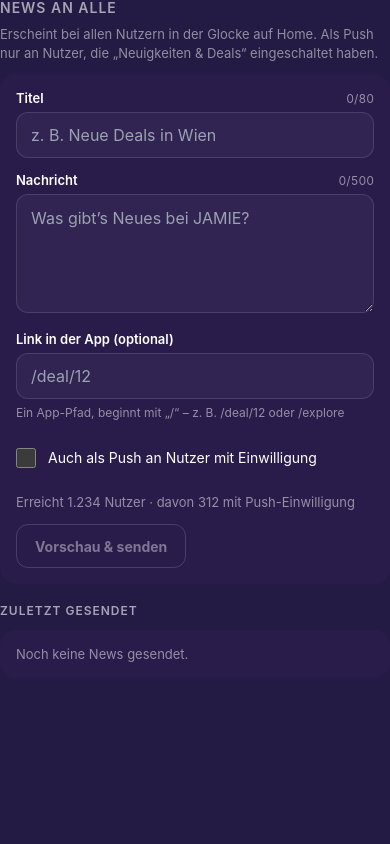
Scenario: AdminNewsSection › the server’s double-send refusal is worded, and the form keeps its text
The width and height of the screenshot is (390, 844).
In the field labelled "Titel": (195, 136) x1=16 y1=112 x2=374 y2=158, type "Neue Deals in Wien"
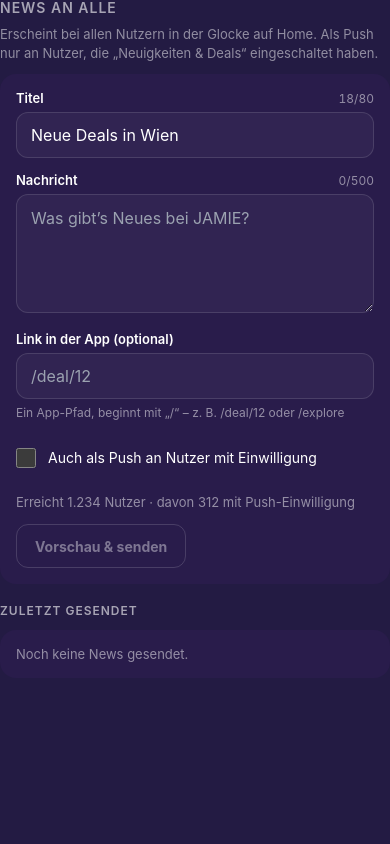
In the text box labelled "Nachricht": (195, 254) x1=16 y1=194 x2=374 y2=313, type "Drei neue Kooperationen — schau rein!"
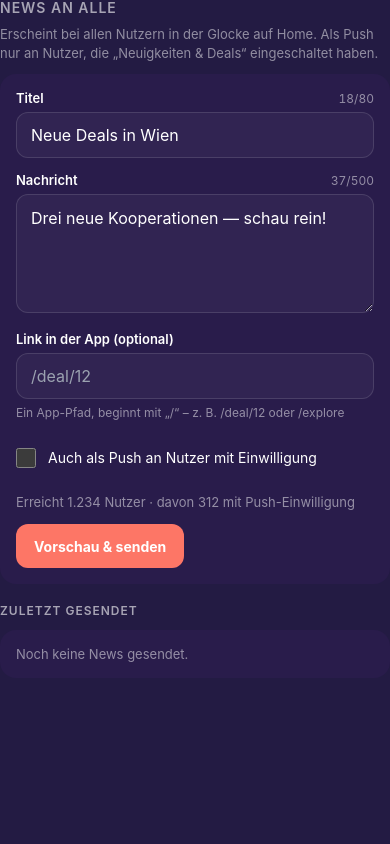
Click the button "Vorschau & senden": click(100, 546) x1=16 y1=524 x2=184 y2=568
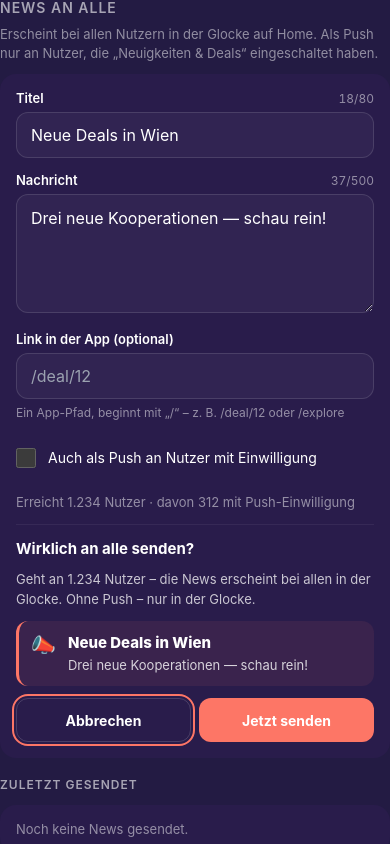
Click the button "Jetzt senden": click(286, 720) x1=199 y1=698 x2=374 y2=742
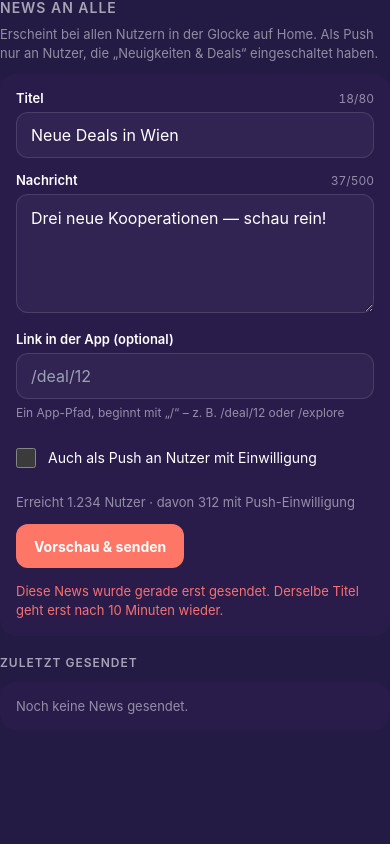
expect the 2nd message shows "Diese News wurde gerade erst gesendet. Derselbe Titel geht erst nach 10 Minuten wieder.": met, box x1=16 y1=583 x2=359 y2=618
